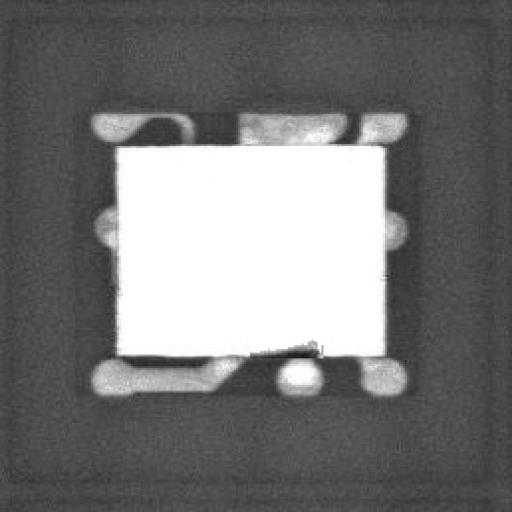DIE_BROKEN: (246, 332, 324, 356)
